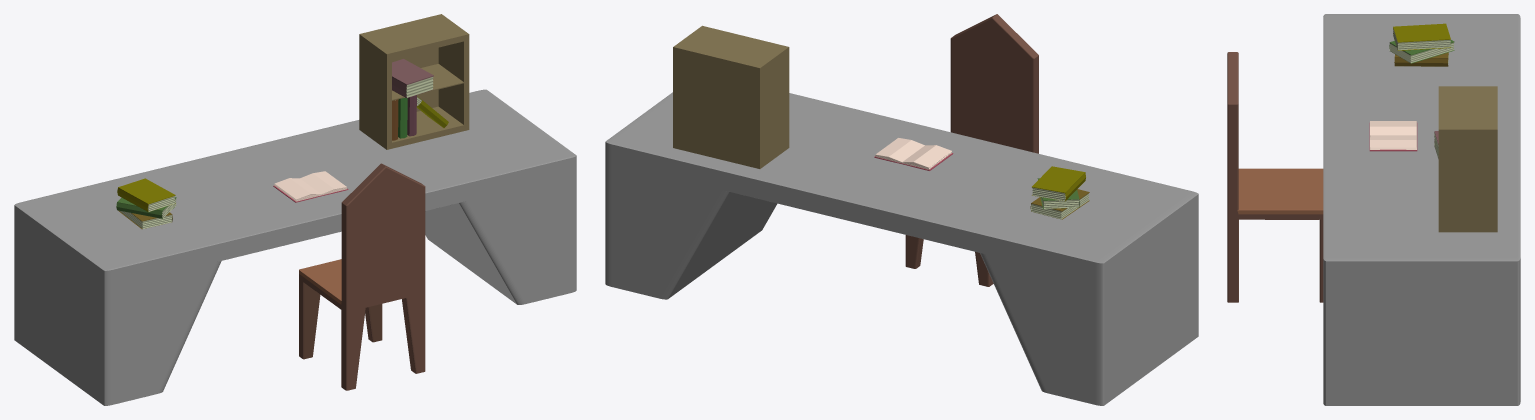
File: Writer.fbx
3 views of the same model, side by side, from view 1: azimuth 30°, elevation 25°; view 2: azimuth 150°, elevation 25°; view 3: azimuth 270°, elevation 25° (orthographic). The views are drawn at different scales.
Parts seen in each view (by area): view 1: Cube.021, Cube.020, Cube.018, Cube.023, Cube.016, Cube.022, kitap2.011, kitap2.022; view 2: Cube.021, Cube.018, Cube.020, Cube.016, kitap2.011; view 3: Cube.021, Cube.018, Cube.022, Cube.020, Cube.016, kitap2.011, kitap2.009, kitap2.007, kitap2.012.
Boxes of the visible parts, <box> form: Cube.021: <box>14,89,576,405</box>; Cube.020: <box>299,163,425,390</box>; Cube.018: <box>359,14,469,149</box>; Cube.023: <box>304,283,381,359</box>; Cube.016: <box>274,171,346,201</box>; Cube.022: <box>299,259,341,304</box>; kitap2.011: <box>117,178,175,211</box>; kitap2.022: <box>392,59,433,98</box>; Cube.021: <box>605,92,1198,405</box>; Cube.018: <box>673,25,789,168</box>; Cube.020: <box>905,14,1038,286</box>; Cube.016: <box>875,138,951,169</box>; kitap2.011: <box>1032,166,1085,201</box>; Cube.021: <box>1323,14,1520,405</box>; Cube.018: <box>1438,86,1497,232</box>; Cube.022: <box>1237,168,1323,214</box>; Cube.020: <box>1227,52,1323,302</box>; Cube.016: <box>1370,121,1416,149</box>; kitap2.011: <box>1393,23,1450,50</box>; kitap2.009: <box>1389,42,1453,62</box>; kitap2.007: <box>1394,52,1448,66</box>; kitap2.012: <box>1393,27,1450,50</box>.
Bounding box in the file's own units: 488 × 456 × 974.
